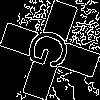G: (25, 25, 81, 76)
